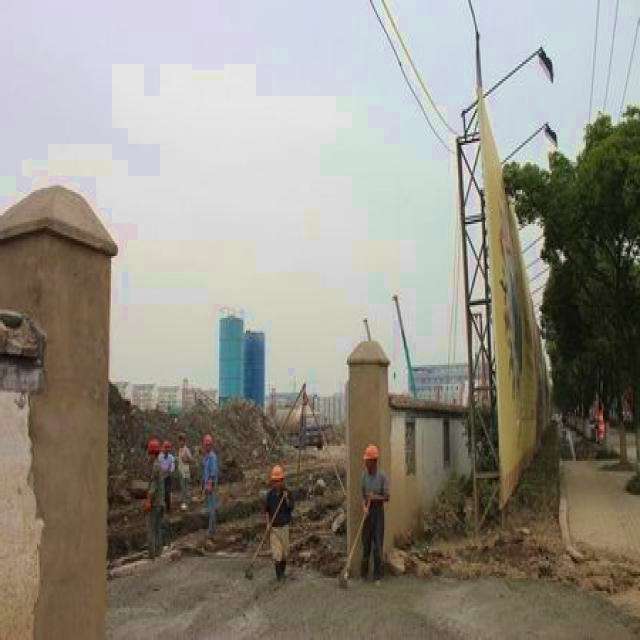Con_Casco: (362, 443, 380, 474), (271, 465, 285, 490)
